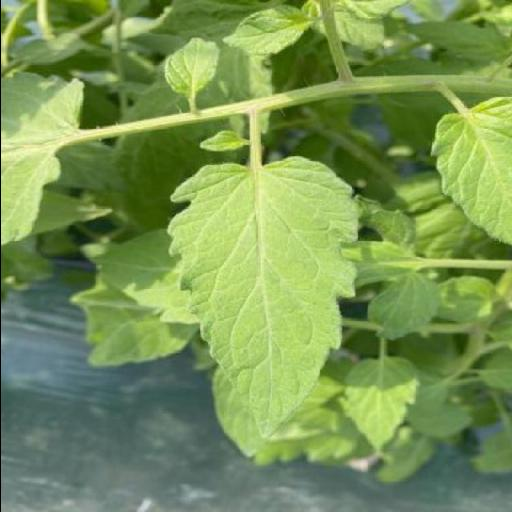Healthy: (168, 157, 358, 439), (222, 6, 310, 56), (164, 38, 218, 94)
